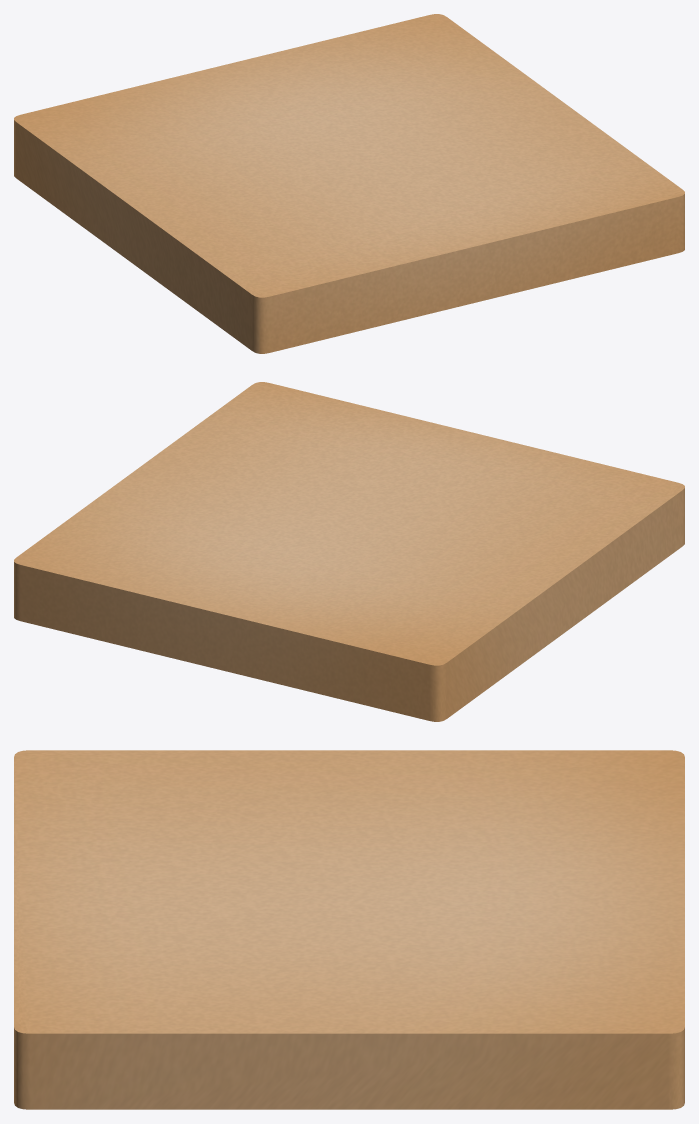
Rendered from bread.fbx.
The picture shows the model from 3 angles, top to bottom: view 1: azimuth 30°, elevation 25°; view 2: azimuth 150°, elevation 25°; view 3: azimuth 270°, elevation 25°; orthographic projection. The views are drawn at different scales.
Visible parts, largest first — view 1: Box001; view 2: Box001; view 3: Box001.
Part boxes in pixels (x1,y1,x2,y2): Box001: (14, 14, 684, 353); Box001: (14, 382, 684, 721); Box001: (14, 750, 684, 1109).
Size of the model in its own units: 40 by 5 by 40.
Materials: 1 (1 with a texture image).
